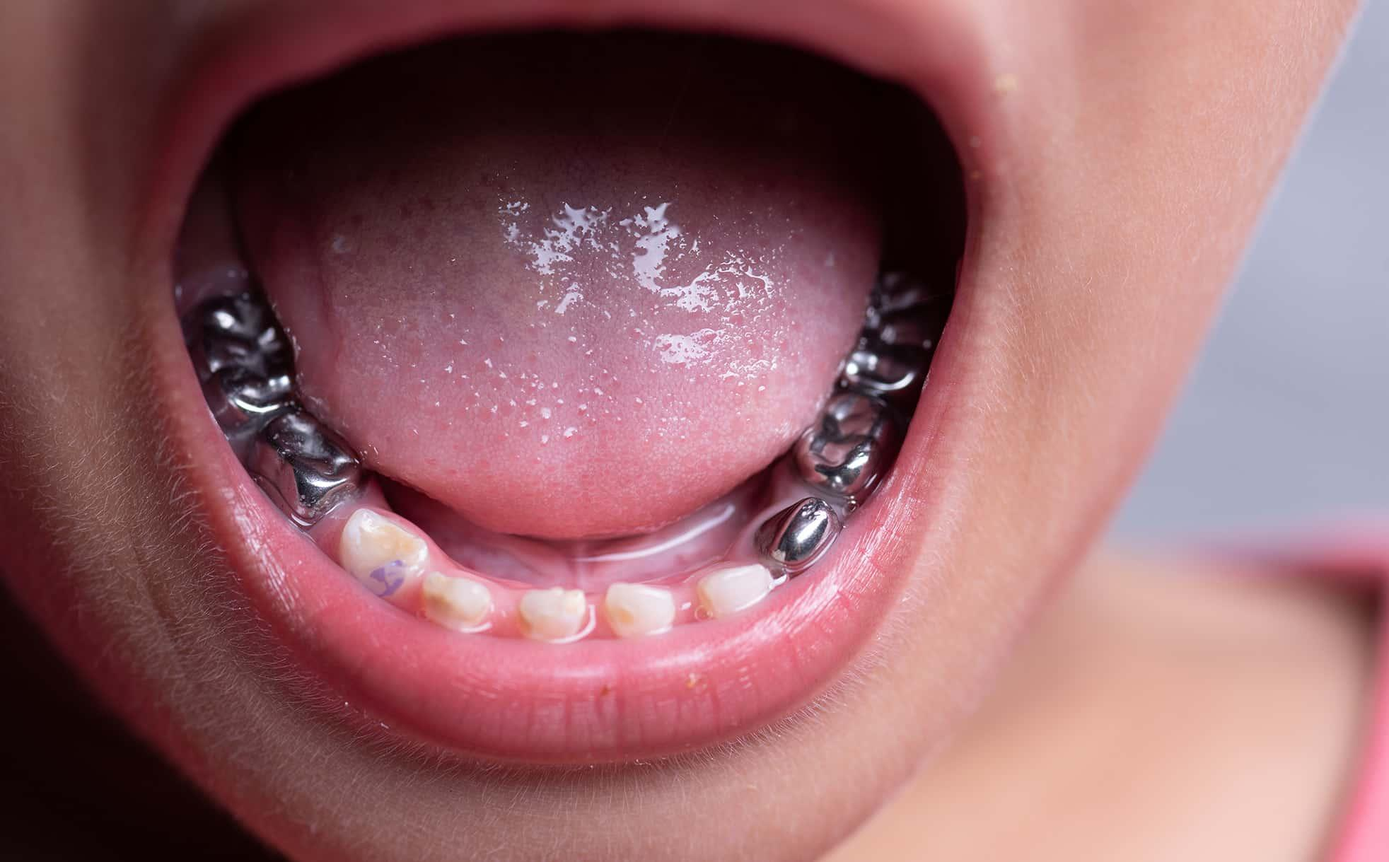crown: (184, 273, 302, 415), (240, 405, 370, 521), (750, 486, 858, 580), (794, 387, 901, 481), (837, 309, 943, 398)
